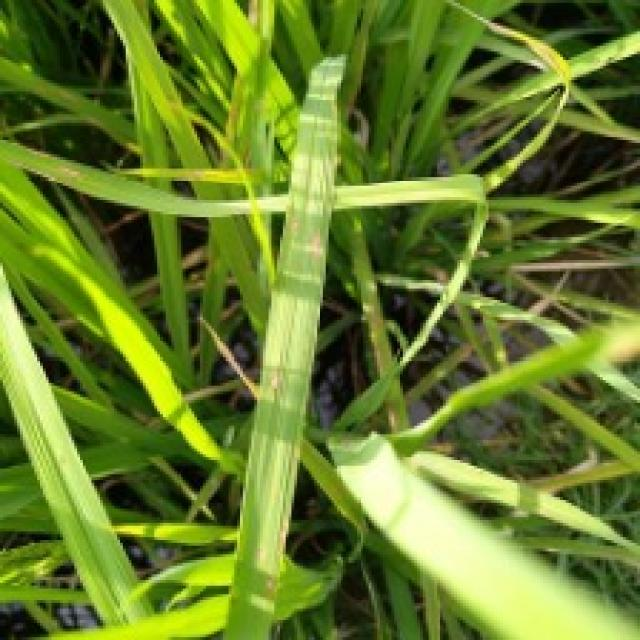Rice___Brown_Spot: (223, 54, 346, 637)
